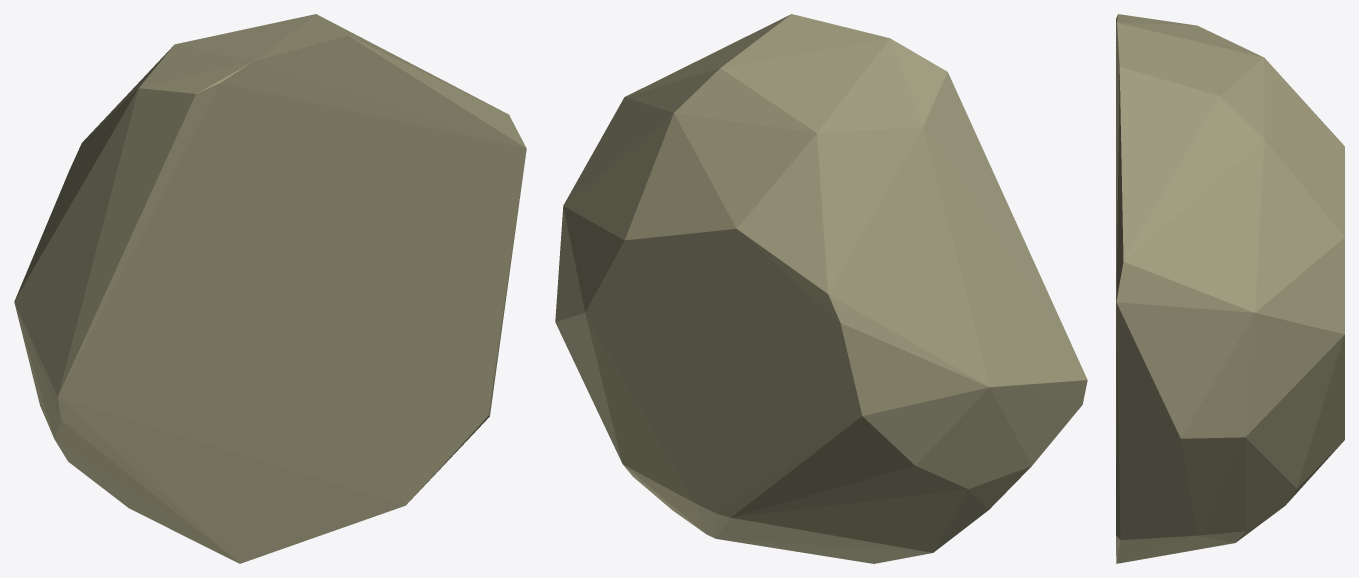
The model's file is kitchenware_bowl_g01.glb.
3 renders of one model, left to right at view 1: azimuth 30°, elevation 25°; view 2: azimuth 150°, elevation 25°; view 3: azimuth 270°, elevation 25°, orthographic. The views are drawn at different scales.
Parts seen in each view (by area): view 1: geometry_0; view 2: geometry_0; view 3: geometry_0.
Boxes of the visible parts, x1,y1,x2,y2 form: geometry_0: (14, 14, 526, 563); geometry_0: (555, 14, 1087, 563); geometry_0: (1116, 14, 1344, 563).
Bounding box in the file's own units: 0.4675 × 0.4681 × 0.1982.
